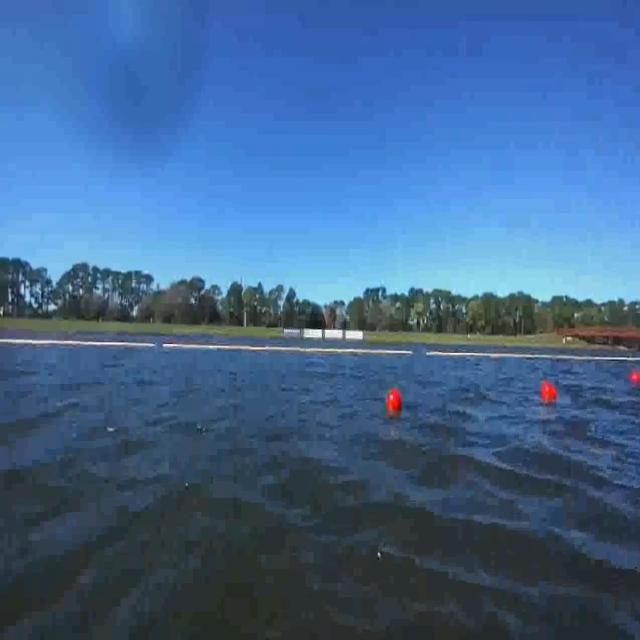red-buoy: (541, 379, 559, 402), (386, 387, 400, 411), (629, 372, 640, 386)
